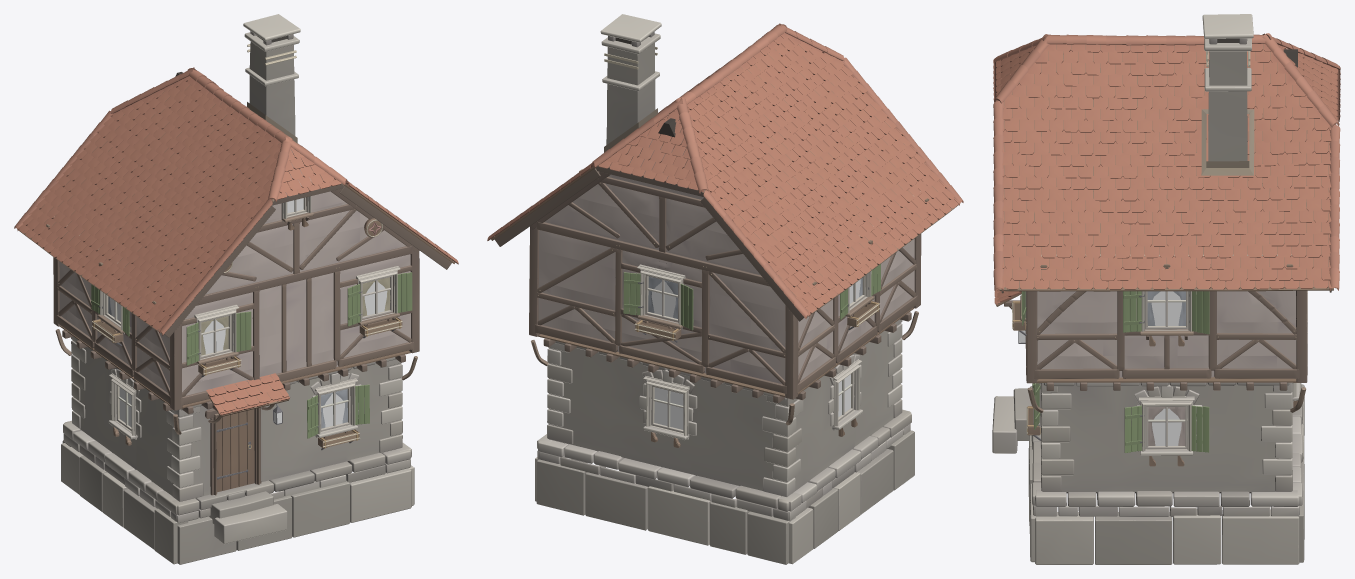
The model's file is bd_house_h5.glb.
3 renders of one model, left to right at view 1: azimuth 30°, elevation 25°; view 2: azimuth 150°, elevation 25°; view 3: azimuth 270°, elevation 25°, orthographic. The views are drawn at different scales.
Visible parts, largest first — view 1: BD_house_h5__body; view 2: BD_house_h5__body; view 3: BD_house_h5__body.
Part boxes in pixels (x1,y1,x2,y2): BD_house_h5__body: (14, 14, 458, 564); BD_house_h5__body: (487, 14, 963, 564); BD_house_h5__body: (992, 14, 1340, 564).
Size of the model in its own units: 8.08 by 11.26 by 7.02.
